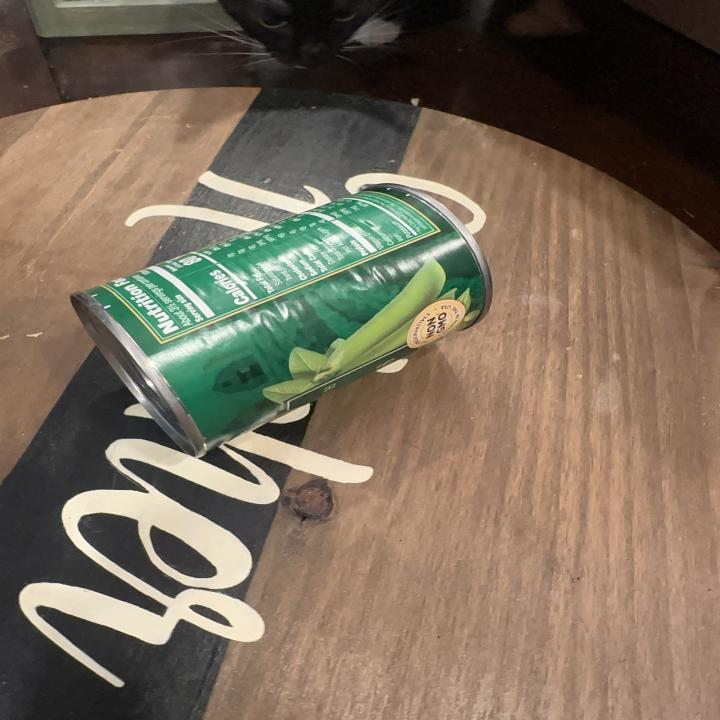Canned-Peas: (62, 175, 520, 457)
